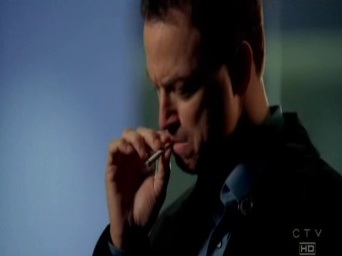smoke: (144, 142, 170, 166)
